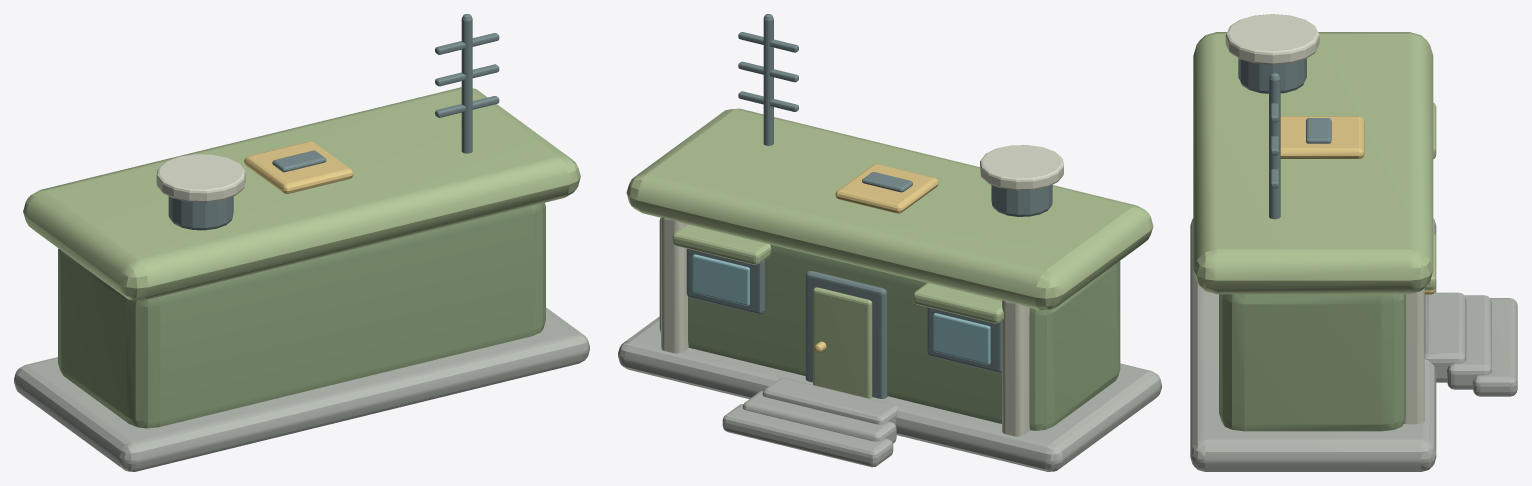
The model's file is headquarters.glb.
The picture shows the model from 3 angles, left to right: view 1: azimuth 30°, elevation 25°; view 2: azimuth 150°, elevation 25°; view 3: azimuth 270°, elevation 25°; orthographic projection. The views are drawn at different scales.
Visible parts, largest first — view 1: Surface_WorldOlive, Surface_WorldRoof, Surface_WorldStone, Surface_WorldMetal, Surface_WorldIvory, Surface_WorldBrass; view 2: Surface_WorldRoof, Surface_WorldOlive, Surface_WorldStone, Surface_WorldMetal, Surface_WorldIvory, Surface_WorldGlass, Surface_WorldBrass; view 3: Surface_WorldRoof, Surface_WorldOlive, Surface_WorldStone, Surface_WorldIvory, Surface_WorldMetal, Surface_WorldBrass.
Part boxes in pixels (left/top/right/bottom): Surface_WorldOlive: left=58, top=203, right=545, bottom=428; Surface_WorldRoof: left=23, top=87, right=580, bottom=300; Surface_WorldStone: left=14, top=307, right=589, bottom=471; Surface_WorldMetal: left=168, top=14, right=499, bottom=230; Surface_WorldIvory: left=156, top=154, right=245, bottom=202; Surface_WorldBrass: left=244, top=141, right=353, bottom=193; Surface_WorldRoof: left=626, top=108, right=1153, bottom=398; Surface_WorldOlive: left=659, top=218, right=1120, bottom=430; Surface_WorldStone: left=618, top=316, right=1161, bottom=471; Surface_WorldMetal: left=686, top=14, right=1052, bottom=398; Surface_WorldIvory: left=661, top=145, right=1063, bottom=436; Surface_WorldGlass: left=692, top=254, right=990, bottom=364; Surface_WorldBrass: left=814, top=164, right=938, bottom=352; Surface_WorldRoof: left=1193, top=32, right=1436, bottom=294; Surface_WorldOlive: left=1219, top=294, right=1405, bottom=431; Surface_WorldStone: left=1190, top=218, right=1517, bottom=471; Surface_WorldIvory: left=1225, top=14, right=1424, bottom=424; Surface_WorldMetal: left=1238, top=58, right=1331, bottom=219; Surface_WorldBrass: left=1280, top=116, right=1434, bottom=294.
Size of the model in its own units: 2.65 by 1.85 by 1.53.
